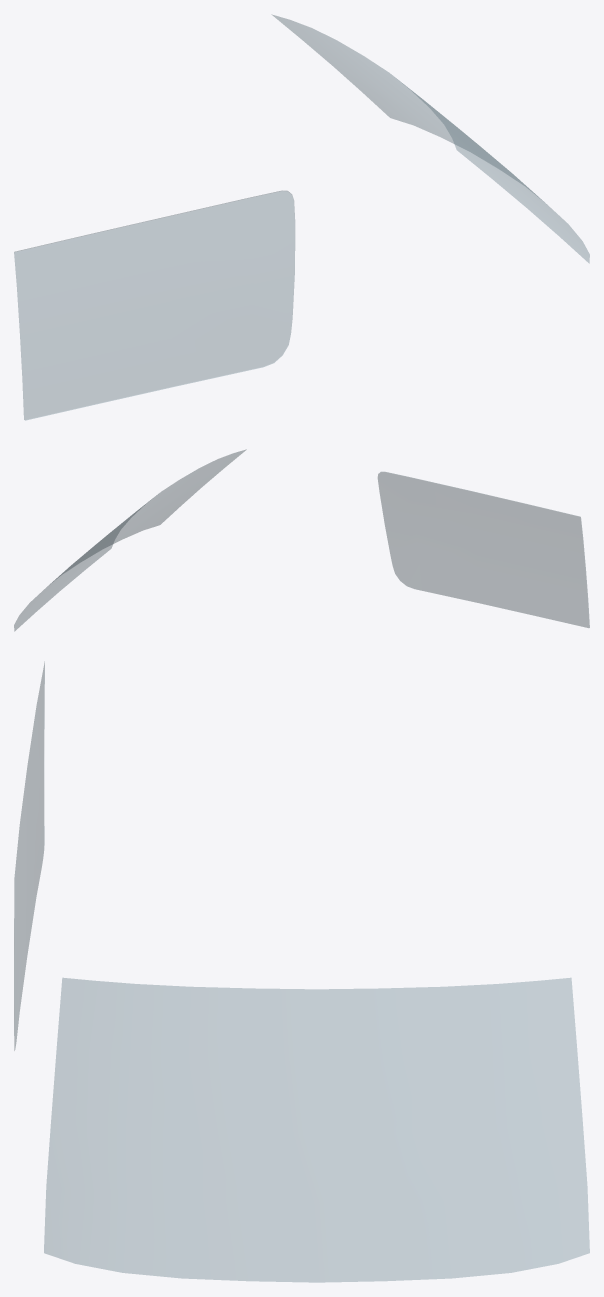
3 renders of one model, top to bottom at view 1: azimuth 30°, elevation 25°; view 2: azimuth 150°, elevation 25°; view 3: azimuth 270°, elevation 25°, orthographic. The views are drawn at different scales.
Parts seen in each view (by area): view 1: SM_MercedesSprinter_Glass_Int2; view 2: SM_MercedesSprinter_Glass_Int2; view 3: SM_MercedesSprinter_Glass_Int2.
Part boxes in pixels (x1,y1,x2,y2): SM_MercedesSprinter_Glass_Int2: [14, 15, 589, 420]; SM_MercedesSprinter_Glass_Int2: [14, 449, 589, 631]; SM_MercedesSprinter_Glass_Int2: [14, 662, 589, 1282].
Size of the model in its own units: 3.09 by 0.7974 by 1.84.
